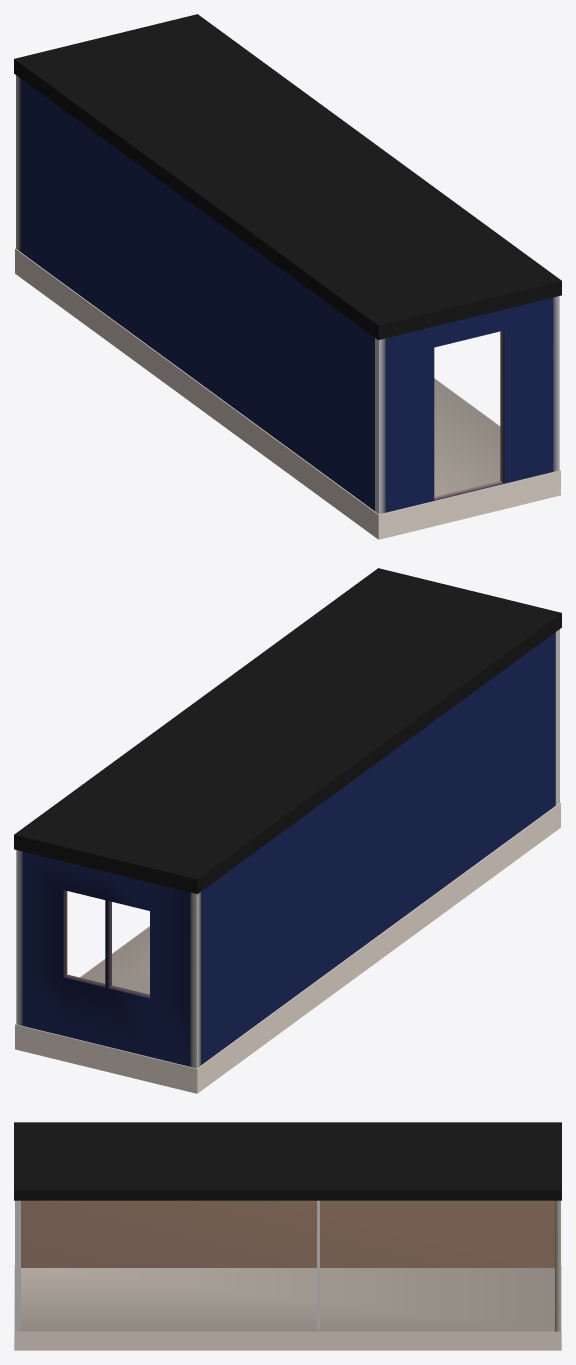
File: CabinShellWithColors.fbx
3 renders of one model, top to bottom at view 1: azimuth 30°, elevation 25°; view 2: azimuth 150°, elevation 25°; view 3: azimuth 270°, elevation 25°, orthographic. The views are drawn at different scales.
Parts seen in each view (by area): view 1: Roof, WallLong2, WallShortDoor, Floor, WallShortDoubleWindows; view 2: Roof, WallLong2, WallShortDoubleWindows, Floor, WallShortDoor; view 3: Floor, Roof, WallLong2, WallShortDoor, WallShortDoubleWindows, WallShortDoorInterior.
Boxes of the visible parts, <box> form: Roof: <box>14,14,561,339</box>; WallLong2: <box>20,78,374,510</box>; WallShortDoor: <box>375,296,559,514</box>; Floor: <box>15,248,560,539</box>; WallShortDoubleWindows: <box>16,75,20,251</box>; Roof: <box>14,568,561,893</box>; WallLong2: <box>201,632,555,1064</box>; WallShortDoubleWindows: <box>16,850,200,1068</box>; Floor: <box>15,802,560,1093</box>; WallShortDoor: <box>555,629,559,805</box>; Floor: <box>14,1265,561,1350</box>; Roof: <box>14,1122,561,1200</box>; WallLong2: <box>21,1200,554,1267</box>; WallShortDoor: <box>15,1200,20,1331</box>; WallShortDoubleWindows: <box>555,1200,560,1331</box>; WallShortDoorInterior: <box>317,1200,319,1330</box>.
Size of the model in its own units: 264 by 294 by 906.
